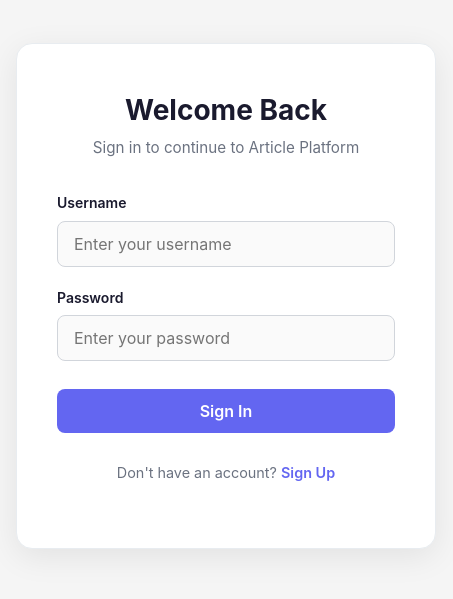
LoginPage › Form Validation › should show validation errors when submitting empty form
Click the button "Sign In": (226, 411) x1=57 y1=389 x2=395 y2=433
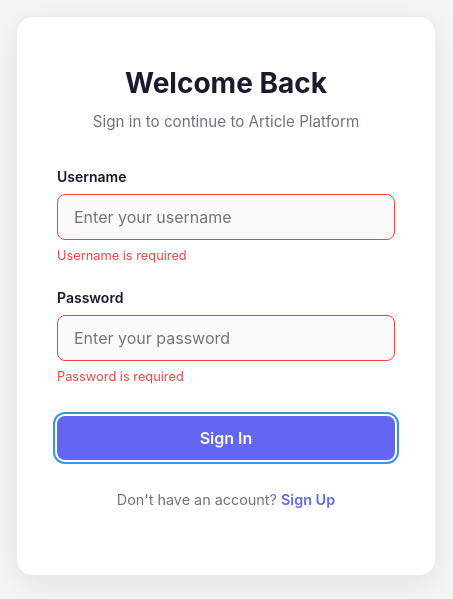
Expected: the text "Username is required" is shown, x1=57 y1=248 x2=187 y2=263
Expected: the text "Password is required" is shown, x1=57 y1=369 x2=184 y2=384
